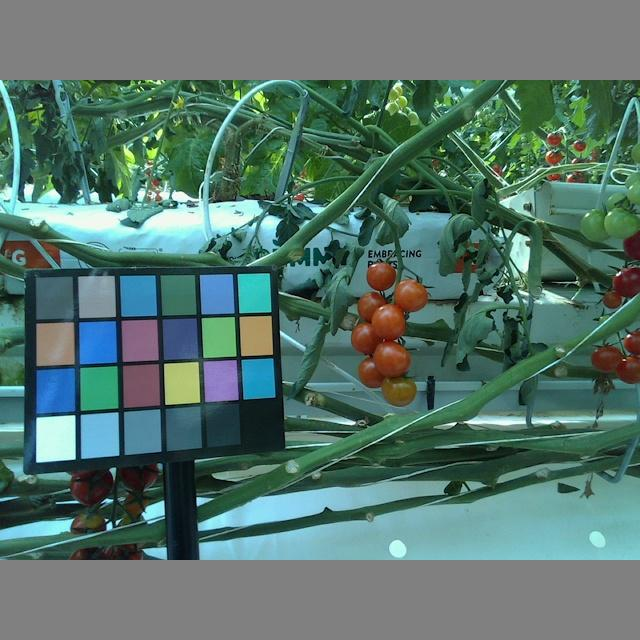green: (577, 209, 615, 241), (603, 209, 639, 237)
pink: (380, 374, 419, 406)
red: (370, 341, 410, 378), (373, 306, 408, 340), (350, 321, 387, 353), (394, 278, 428, 311), (357, 356, 391, 389), (355, 290, 388, 322), (607, 265, 640, 296), (366, 261, 397, 291), (592, 343, 621, 370)
